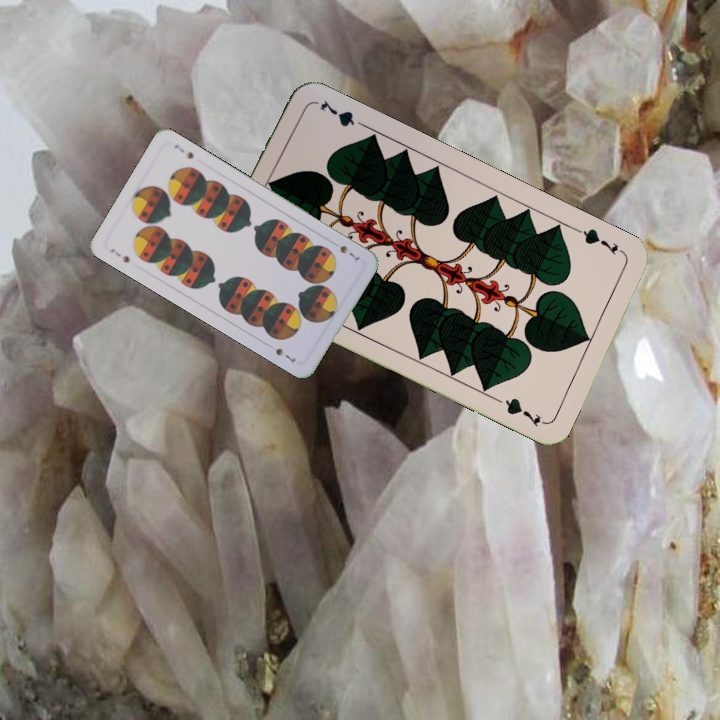G7: (573, 224, 628, 258)
S7: (336, 241, 363, 263), (106, 244, 132, 266)
